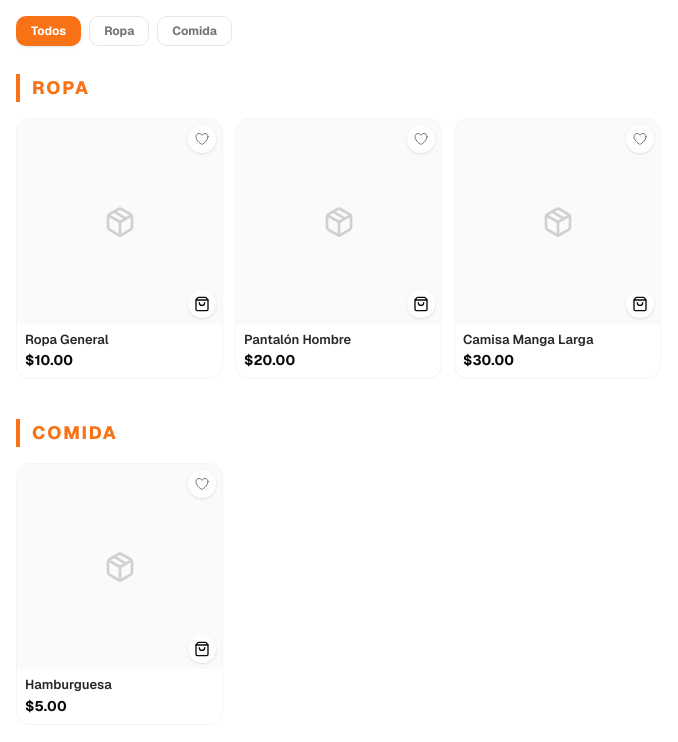
Test: StorefrontCatalog › should recursively filter products by subcategory and render cascading rows when parent category is selected
Expected: the heading "Ropa General" is shown, [25, 331, 109, 348]
Expected: the heading "Pantalón Hombre" is shown, [244, 331, 351, 348]
Click the button "Ropa" at {"x": 119, "y": 31}, box [89, 16, 149, 46]
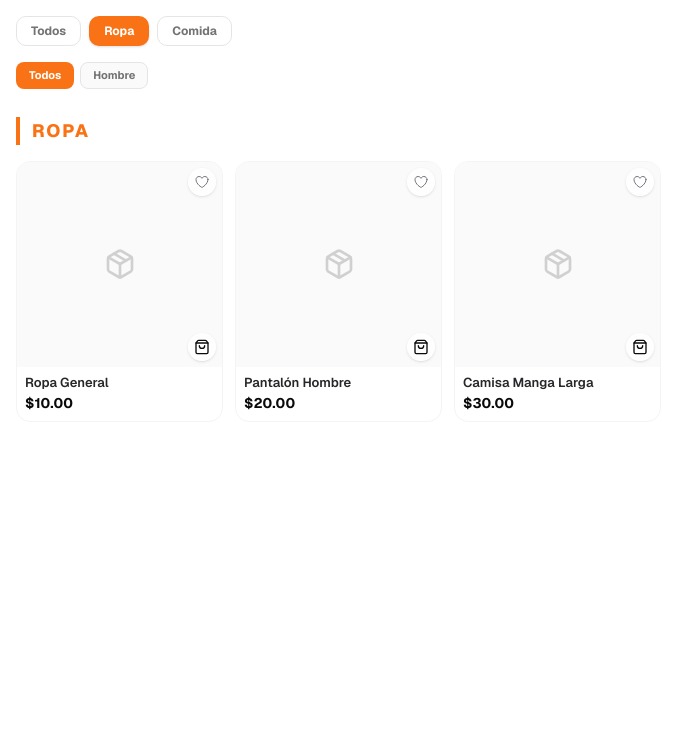
Expected: the heading "Ropa General" is shown, [25, 374, 109, 390]
Expected: the heading "Hamburguesa" is gone
Expected: the button "Hombre" is shown
Click the button "Hombre" at {"x": 114, "y": 75}, box [80, 62, 148, 88]
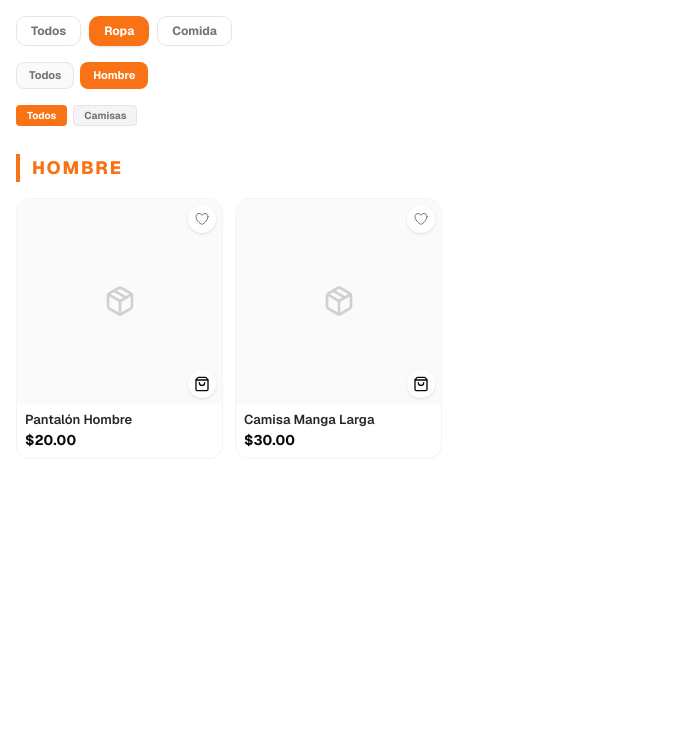
Expected: the heading "Pantalón Hombre" is shown, [25, 410, 132, 428]
Expected: the heading "Ropa General" is gone
Expected: the button "Camisas" is shown
Click the button "Camisas" at {"x": 105, "y": 115}, box [73, 104, 137, 126]
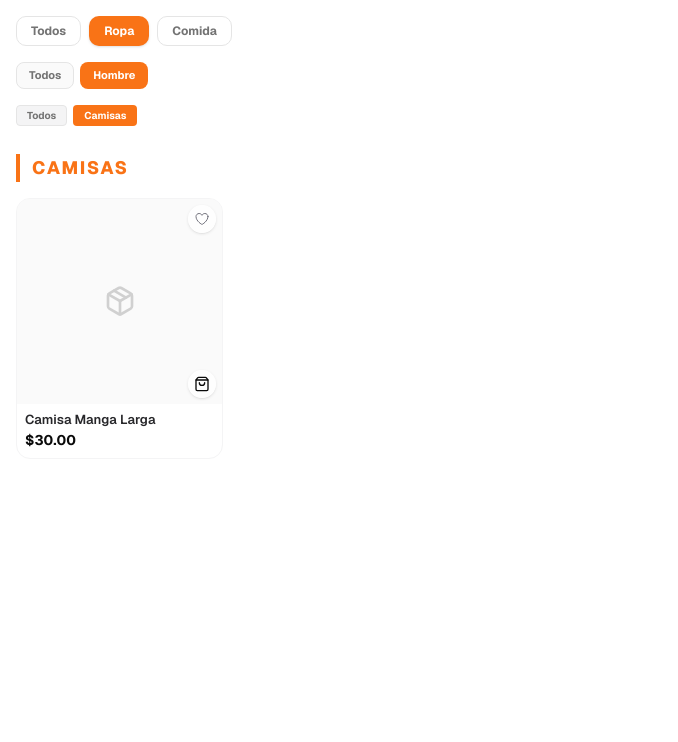
Expected: the heading "Ropa General" is not shown
Expected: the heading "Pantalón Hombre" is gone
